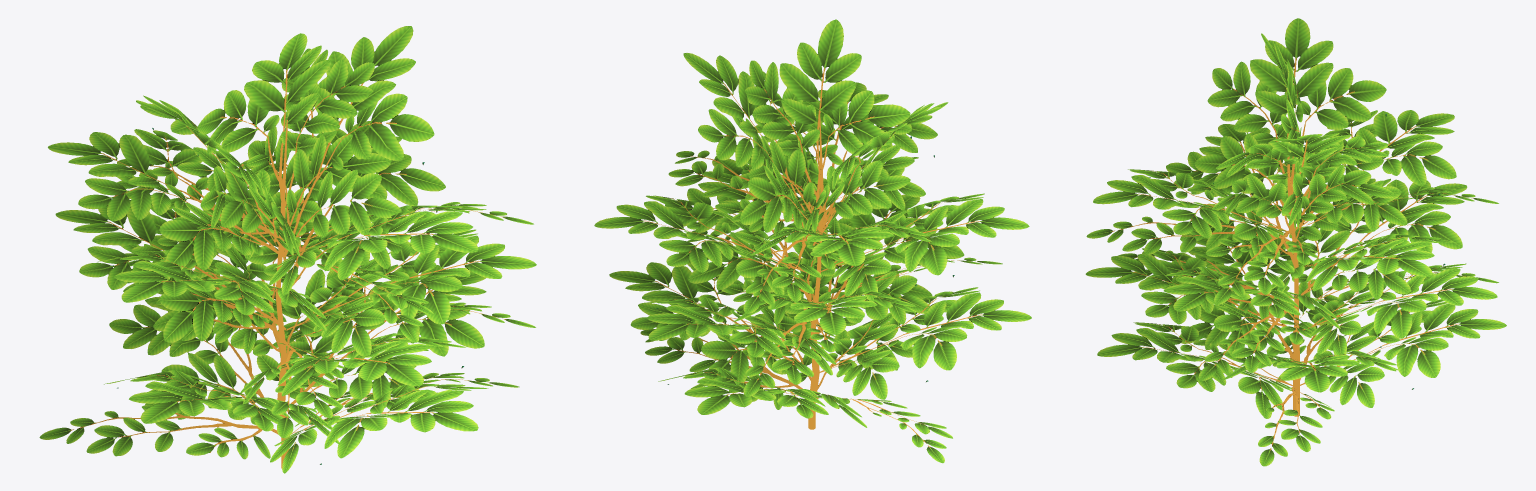
File: Plant_01.fbx
The picture shows the model from 3 angles, left to right: view 1: azimuth 30°, elevation 25°; view 2: azimuth 150°, elevation 25°; view 3: azimuth 270°, elevation 25°; orthographic projection. The views are drawn at different scales.
Visible parts, largest first — view 1: SM_Plant_02; view 2: SM_Plant_02; view 3: SM_Plant_02.
Boxes of the visible parts, x1,y1,x2,y2 form: SM_Plant_02: (39, 26, 536, 473); SM_Plant_02: (594, 19, 1031, 463); SM_Plant_02: (1085, 18, 1506, 466).
Bounding box in the file's own units: 217 × 213 × 230.
